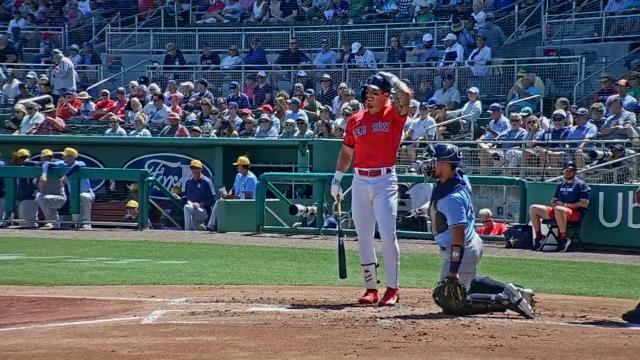bat: (337, 200, 348, 279)
